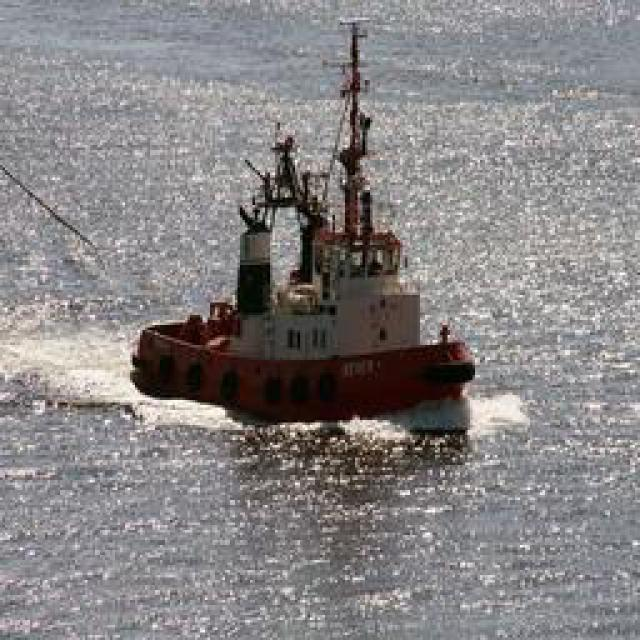Ship: (131, 30, 479, 428)
